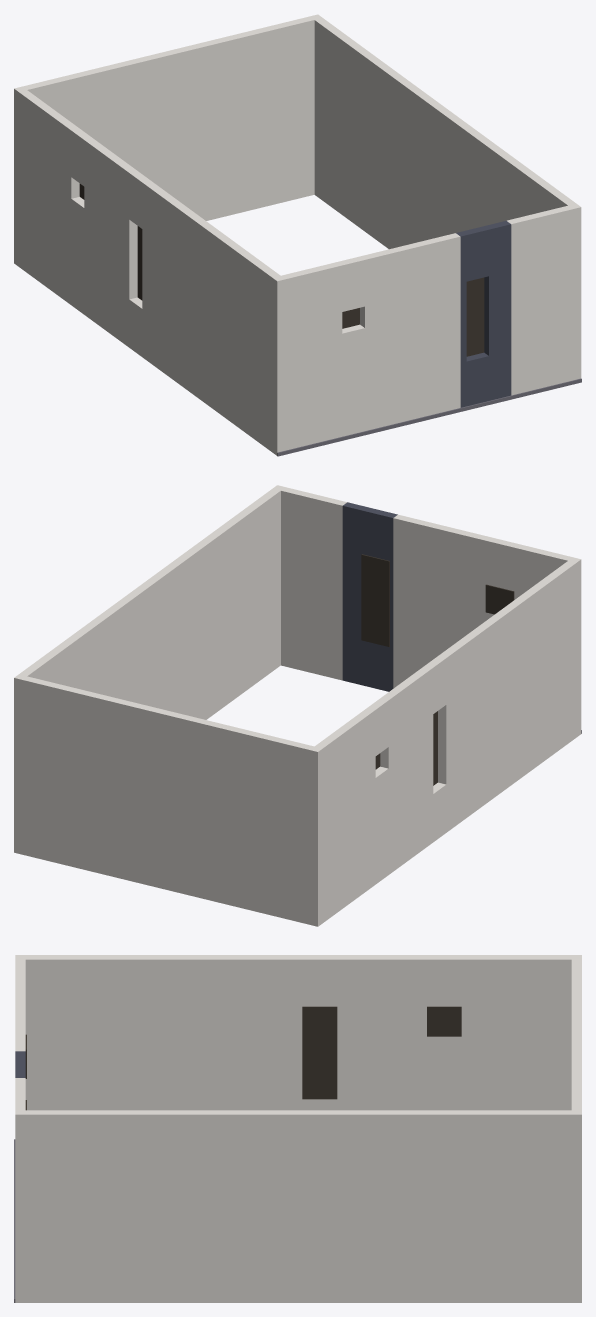
The model's file is SM_Floor_NarrowUpperScatterHighEndL_White_546_01.gltf.
3 renders of one model, top to bottom at view 1: azimuth 30°, elevation 25°; view 2: azimuth 150°, elevation 25°; view 3: azimuth 270°, elevation 25°, orthographic. The views are drawn at different scales.
Visible parts, largest first — view 1: SM_Floor_NarrowUpperScatterHighEndL_White_546_01; view 2: SM_Floor_NarrowUpperScatterHighEndL_White_546_01; view 3: SM_Floor_NarrowUpperScatterHighEndL_White_546_01.
Boxes of the visible parts, x1,y1,x2,y2 form: SM_Floor_NarrowUpperScatterHighEndL_White_546_01: (14, 14, 581, 456); SM_Floor_NarrowUpperScatterHighEndL_White_546_01: (14, 485, 581, 926); SM_Floor_NarrowUpperScatterHighEndL_White_546_01: (14, 955, 581, 1302).
Size of the model in its own units: 5.46 by 3 by 8.21.
Materials: 1 (1 with a texture image).
